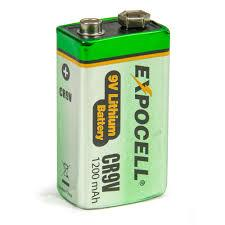9V: (53, 8, 174, 214)
